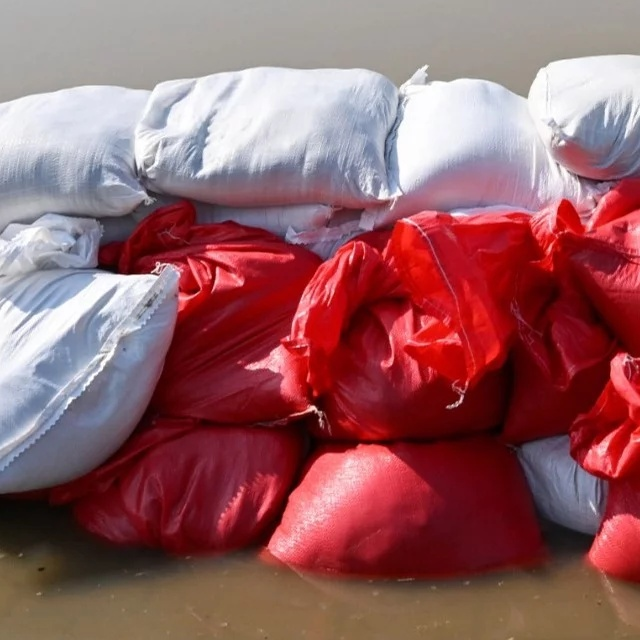sandbag: (0, 214, 179, 494), (101, 202, 319, 424), (266, 437, 543, 578), (373, 66, 591, 227), (139, 71, 397, 206), (77, 427, 307, 554), (0, 86, 150, 228), (570, 353, 640, 580), (530, 55, 640, 180), (573, 180, 640, 357), (516, 436, 608, 536)
